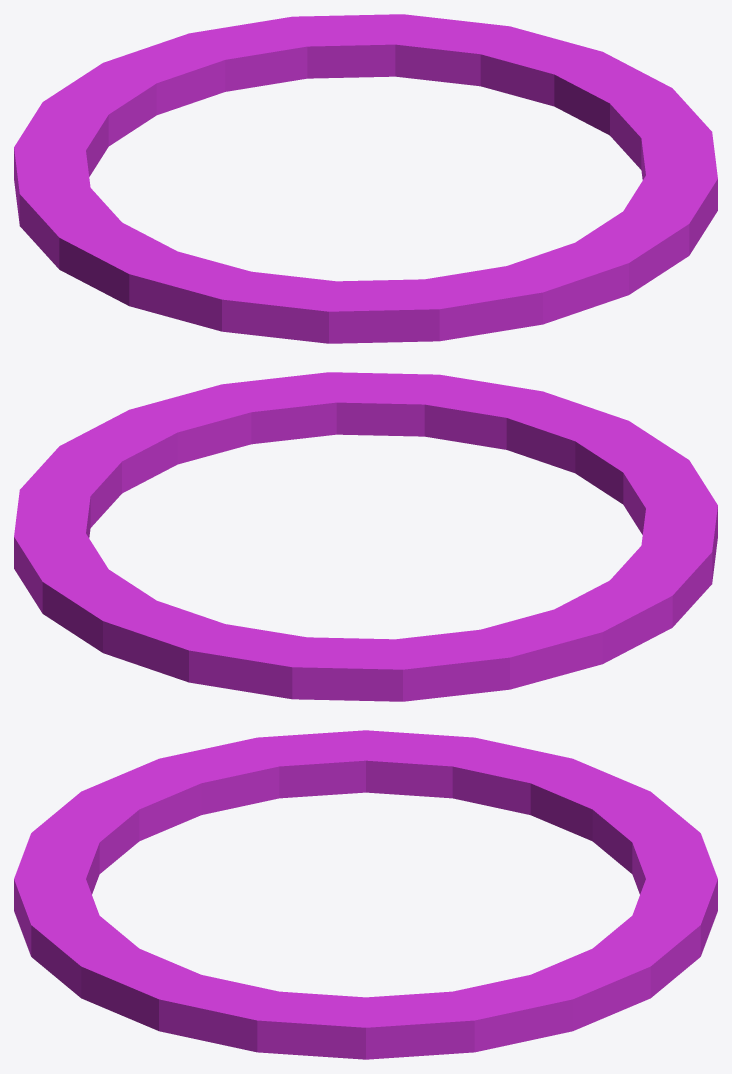
The model's file is highlight.fbx.
3 views of the same model, one above another, from view 1: azimuth 30°, elevation 25°; view 2: azimuth 150°, elevation 25°; view 3: azimuth 270°, elevation 25° (orthographic).
Visible parts, largest first — view 1: Highlight; view 2: Highlight; view 3: Highlight.
Part boxes in pixels (x1,y1,x2,y2): Highlight: [14, 14, 717, 343]; Highlight: [14, 372, 717, 701]; Highlight: [14, 730, 717, 1059].
Size of the model in its own units: 200 by 10 by 200.
